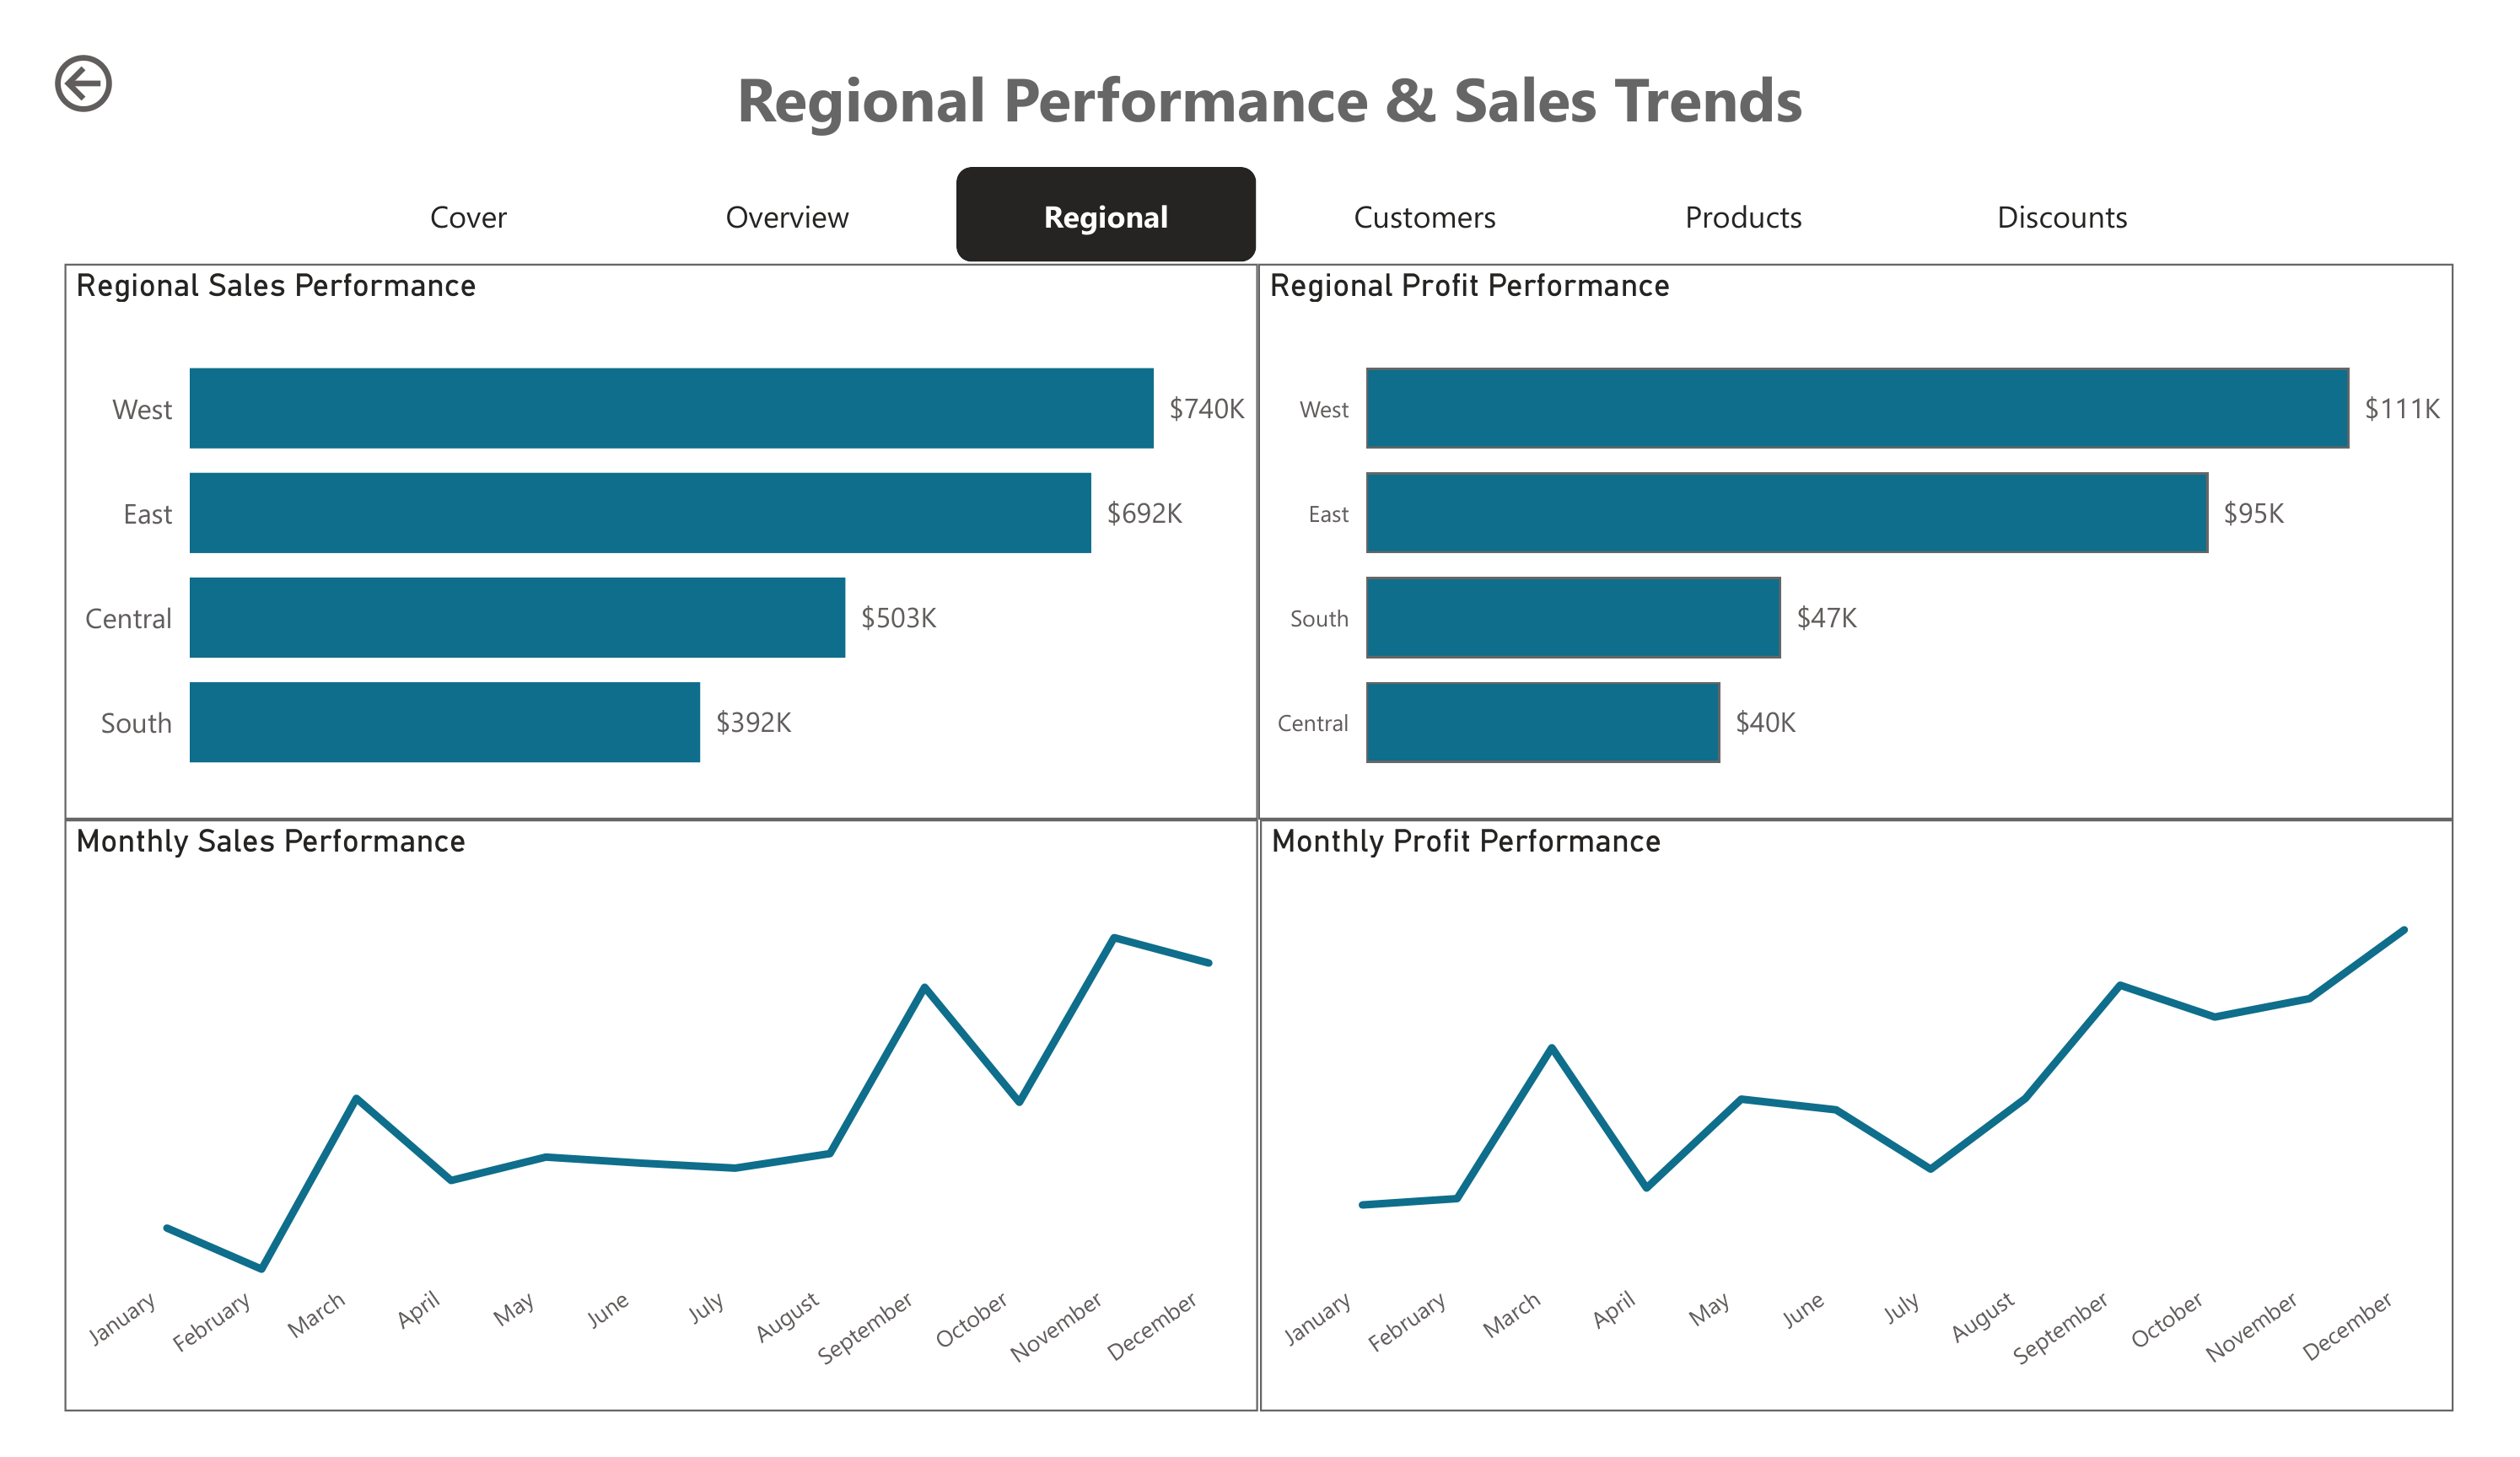

The page's visual inventory and layout, read from the dashboard file:
{"tool":"powerbi","page":{"name":"Regional","canvas":[1280,720],"ordinal":2},"visuals":[{"type":"textbox","box":[9.6,0,1270.7,67.2],"z":0},{"type":"clusteredBarChart","title":"Regional Sales Performance","fields":{"Category":["orders.Region","orders.State/Province","orders.City"],"Y":["KPI_Measures.Total_sales"]},"box":[9.6,115.3,629.8,292.3],"z":1000},{"type":"actionButton","box":[0,0,100,40],"z":2000},{"type":"clusteredBarChart","title":"Regional Profit Performance ","fields":{"Y":["KPI_Measures.Total_Profit"],"Category":["orders.Region","orders.State/Province","orders.City"]},"box":[639.5,115.3,629.8,292.3],"z":3000},{"type":"lineChart","title":"Monthly Sales Performance","fields":{"Y":["KPI_Measures.Total_sales"],"Category":["orders.order_month"]},"box":[9.6,407.5,629.8,312.9],"z":4000},{"type":"lineChart","title":"Monthly Profit Performance","fields":{"Y":["KPI_Measures.Total_Profit"],"Category":["orders.order_month"]},"box":[640,408,629,312],"z":5000},{"type":"pageNavigator","box":[144,64,1000,50],"z":6000}]}

Visuals, with their boxes in screenshot pixels (x1, y1, x2, y2), scaled from the page's 1280x720 canvas onto the 2520x1457 screenshot:
textbox: l=19, t=0, r=2519, b=136
"Regional Sales Performance" clusteredBarChart: l=19, t=234, r=1259, b=825
actionButton: l=0, t=0, r=197, b=81
"Regional Profit Performance " clusteredBarChart: l=1259, t=234, r=2499, b=825
"Monthly Sales Performance" lineChart: l=19, t=825, r=1259, b=1456
"Monthly Profit Performance" lineChart: l=1260, t=825, r=2498, b=1456
pageNavigator: l=283, t=130, r=2253, b=231
